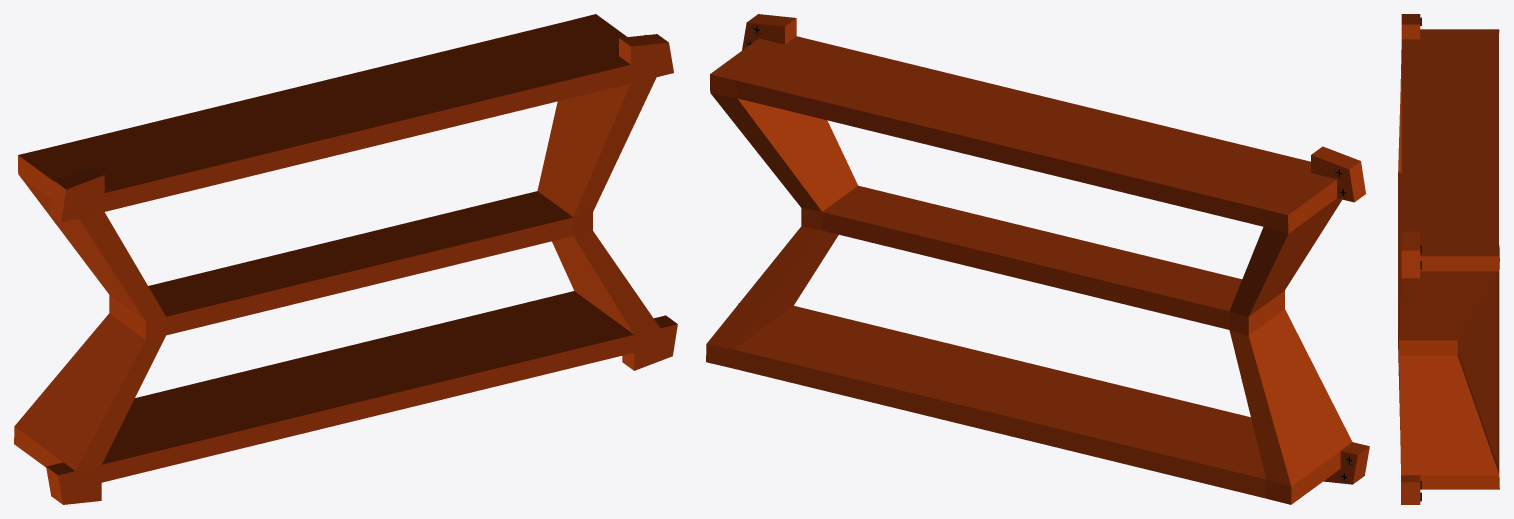
File: Shelf 7.fbx
3 views of the same model, side by side, from view 1: azimuth 30°, elevation 25°; view 2: azimuth 150°, elevation 25°; view 3: azimuth 270°, elevation 25° (orthographic). The views are drawn at different scales.
Visible parts, largest first — view 1: Node 0; view 2: Node 0; view 3: Node 0.
Boxes of the visible parts, box(x1,y1,x2,y2) form: Node 0: box(14, 14, 677, 504); Node 0: box(706, 14, 1369, 504); Node 0: box(1398, 14, 1499, 504).
Bounding box in the file's own units: 0.3679 × 1.04 × 2.08.
